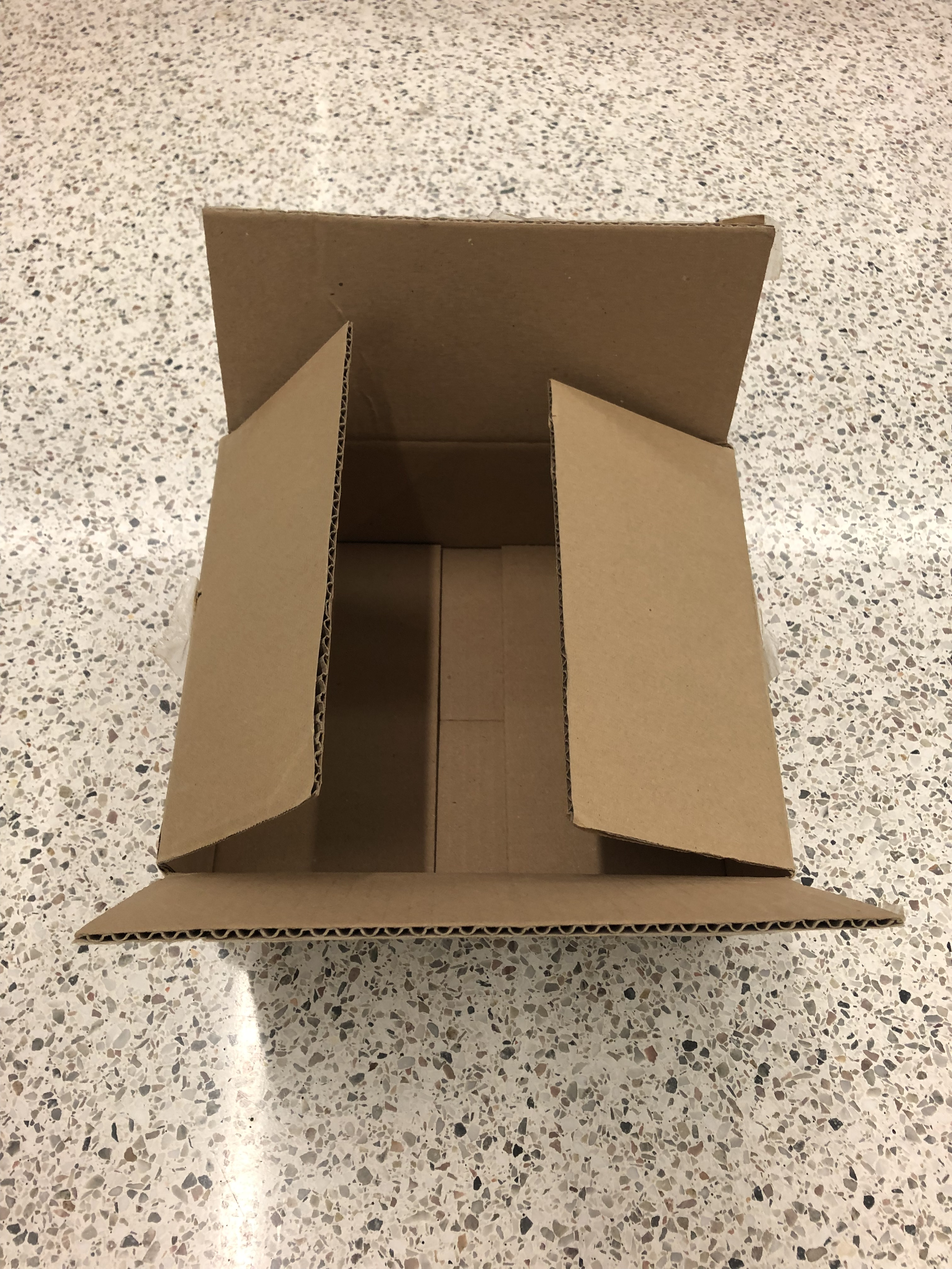box: (67, 208, 905, 938)
crushed: (68, 207, 906, 938)
